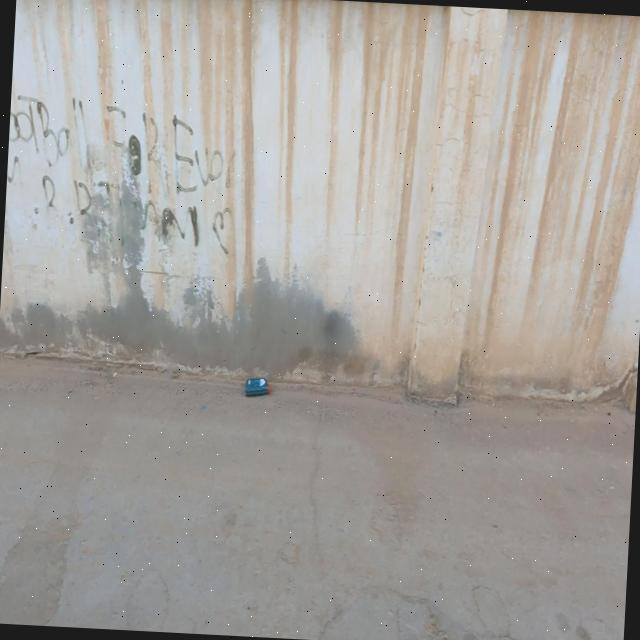Graffiti: (5, 94, 244, 258)
